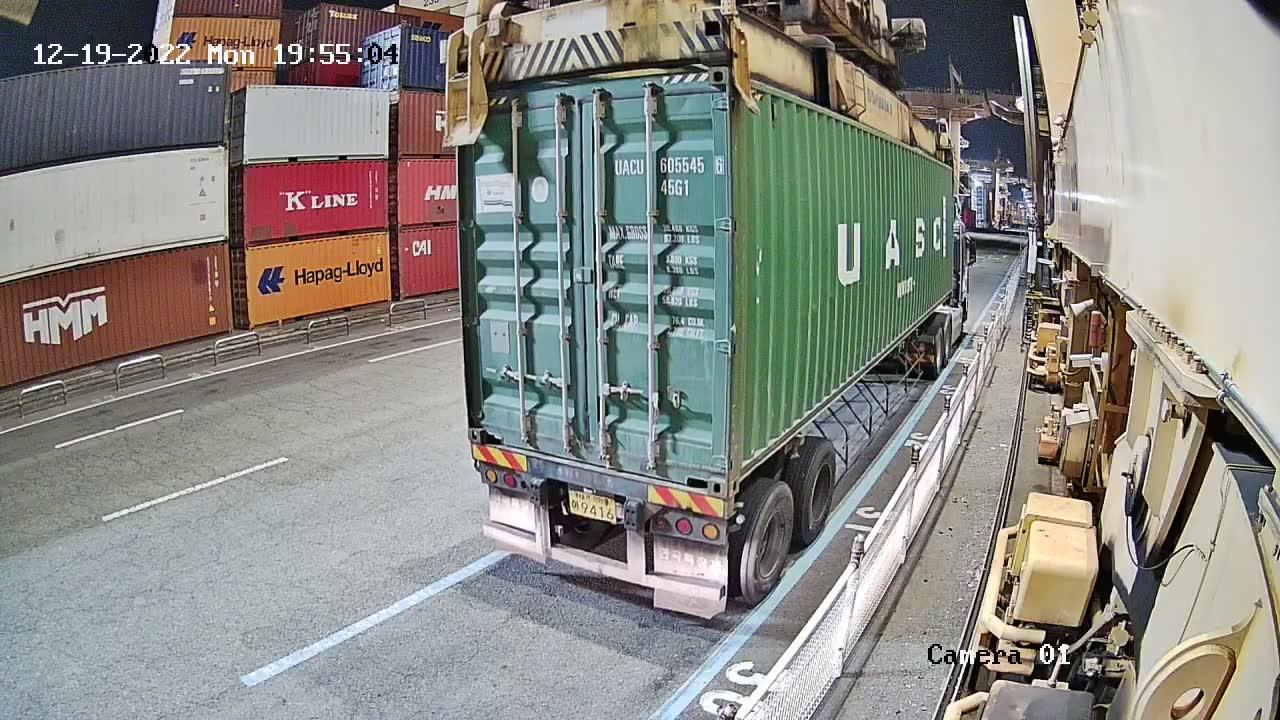Chassis: (468, 443, 727, 534)
Hole_L: (728, 425, 762, 494), (465, 401, 505, 446)
Hole_R: (679, 445, 727, 498)
Tire: (744, 489, 795, 602), (799, 445, 836, 534)
